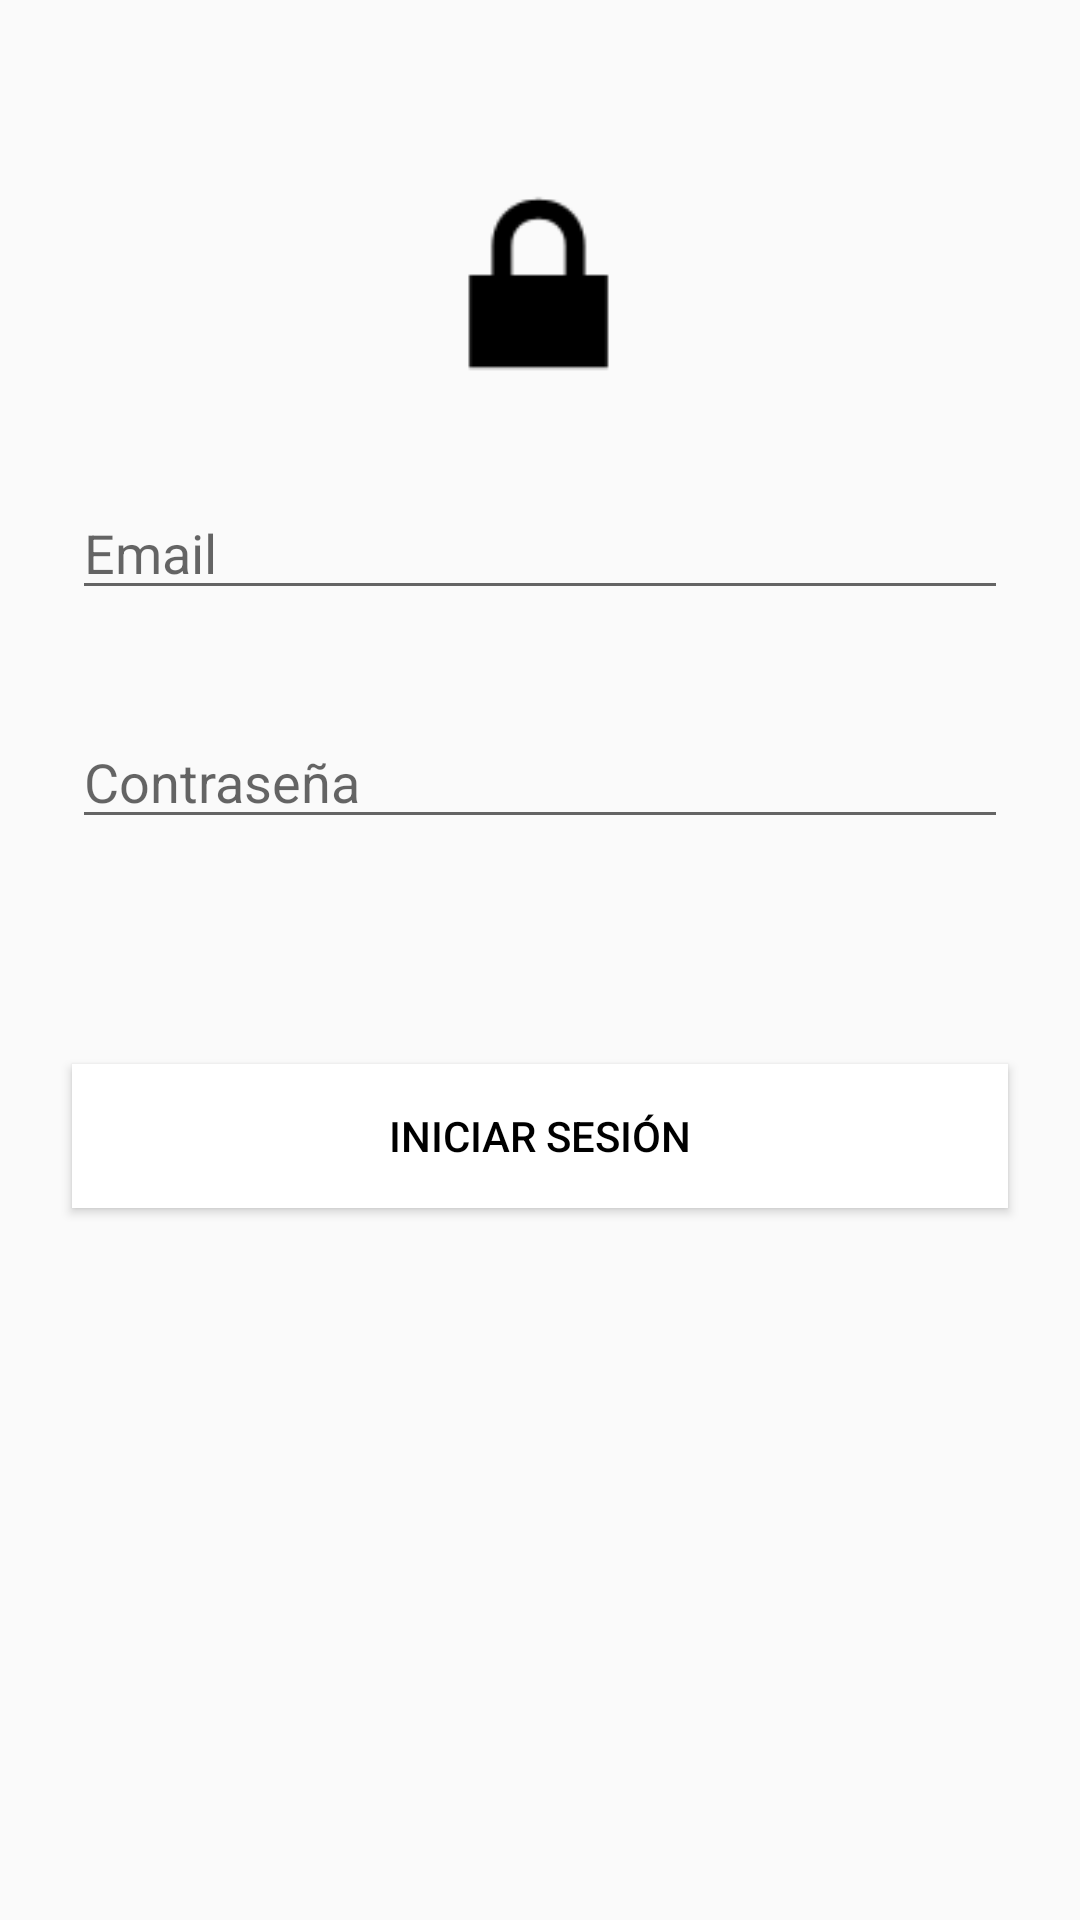

Screen size 1080px x 1920px. Icon name, then its box in pixels as bbox=[x1, y1, x2, y2]:
lock: bbox=[468, 197, 609, 370]
